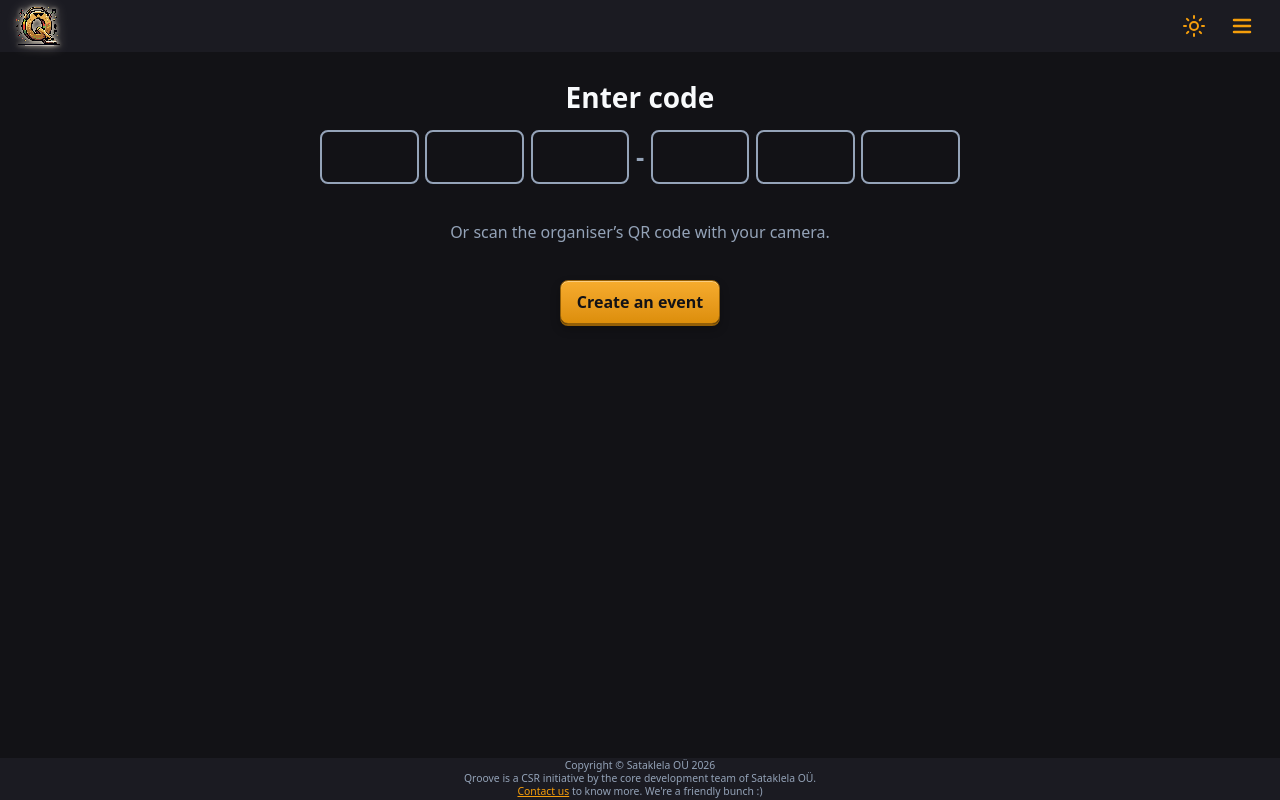
it: Landing › has the logo as a home link on the left; a sun/moon toggle and a three-line menu on the right
// The theme toggle sits beside the menu, outside it.
Click the button named "Menu" at (1242, 26), box [1220,4,1264,48]
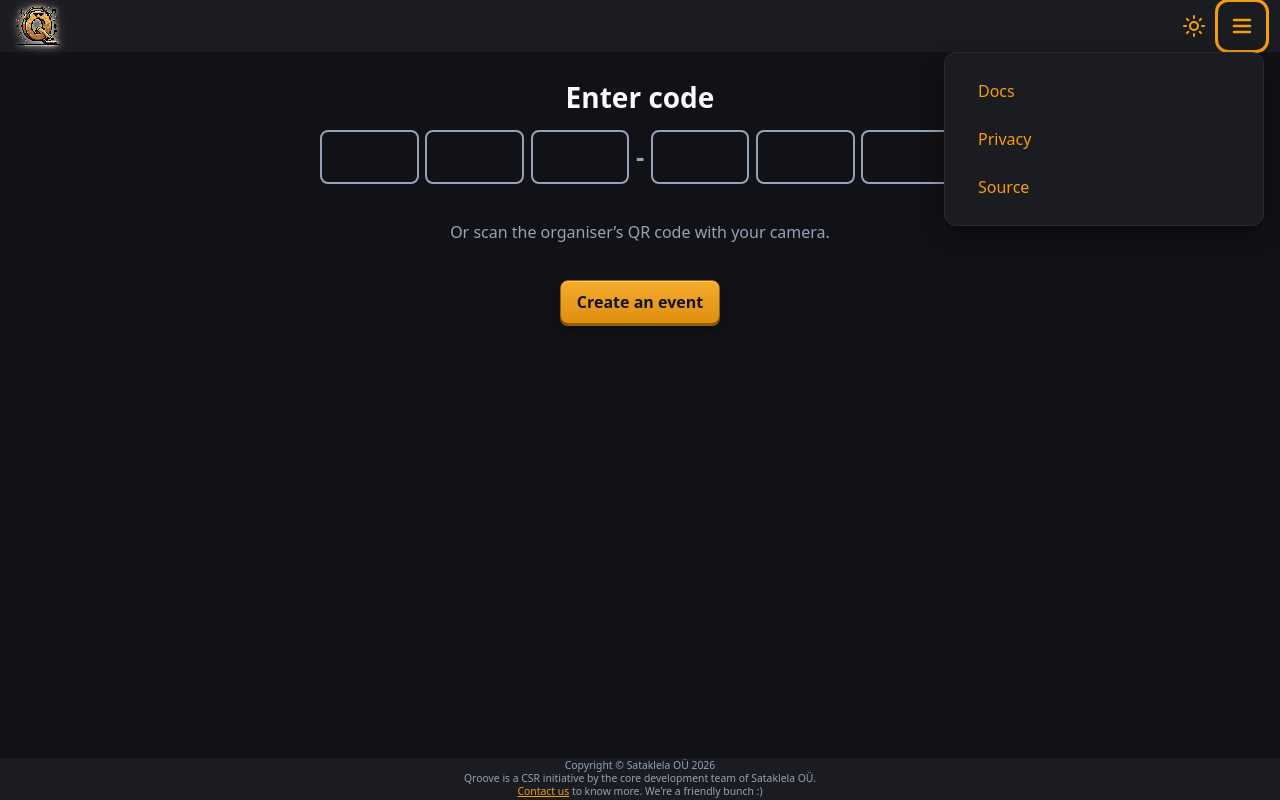
Check: the links read "Docs", "Privacy", "Source", in this order, box [961,69,1247,113]; [961,117,1247,161]; [961,165,1247,209]
Click the button named "Switch to light mode" at (1194, 26), box [1172,4,1216,48]
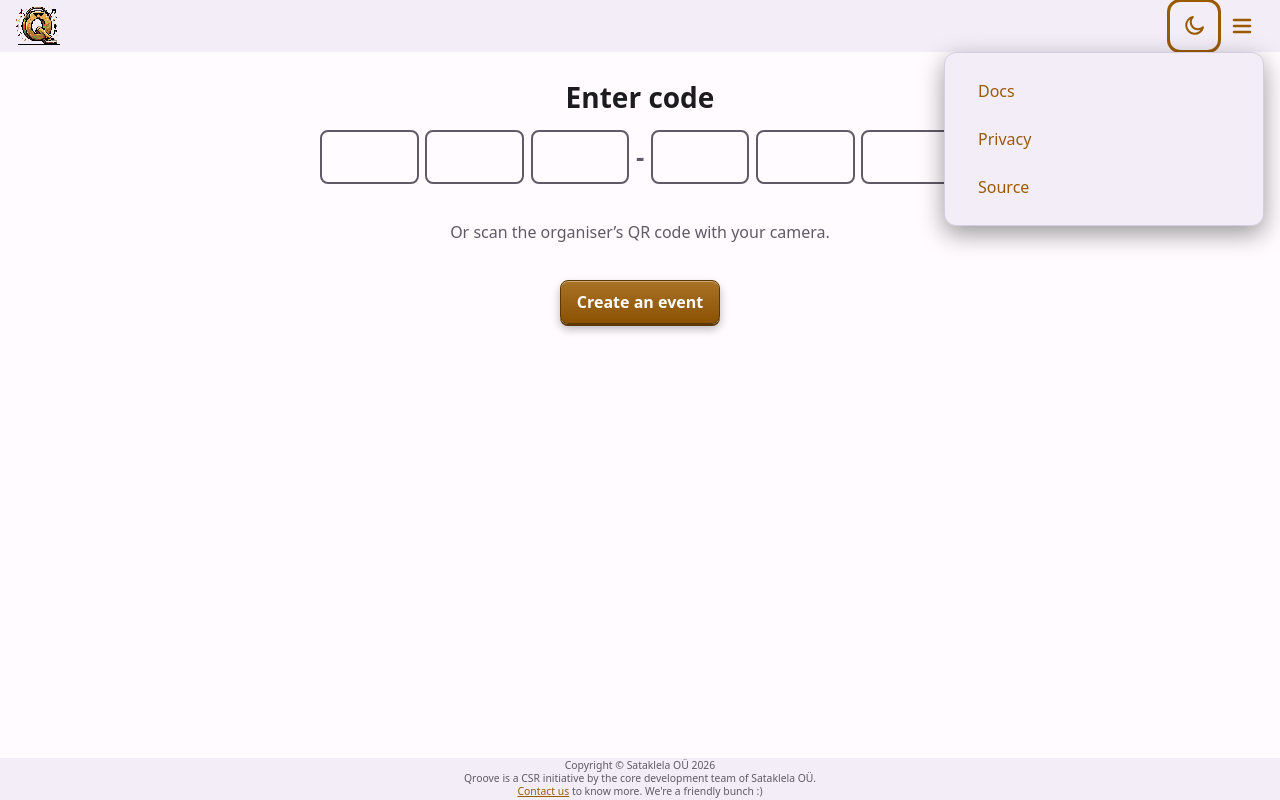
Check: the button named "Switch to dark mode" is shown, box [1172,4,1216,48]
